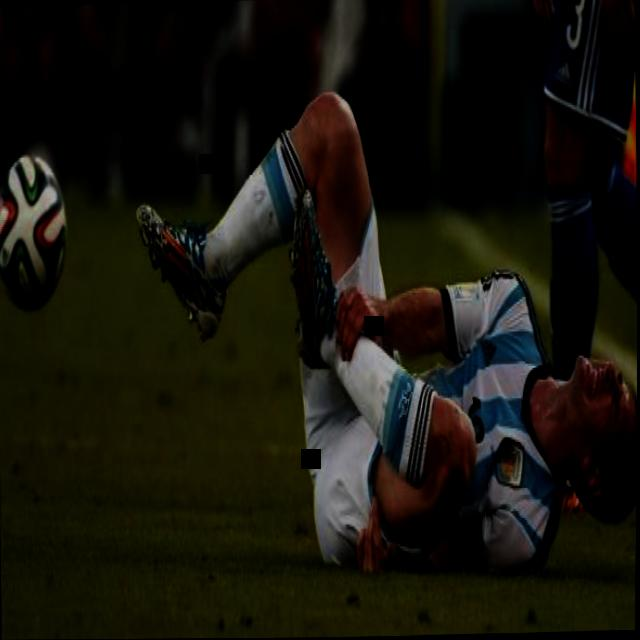Fall-Detected: (130, 64, 640, 575)
